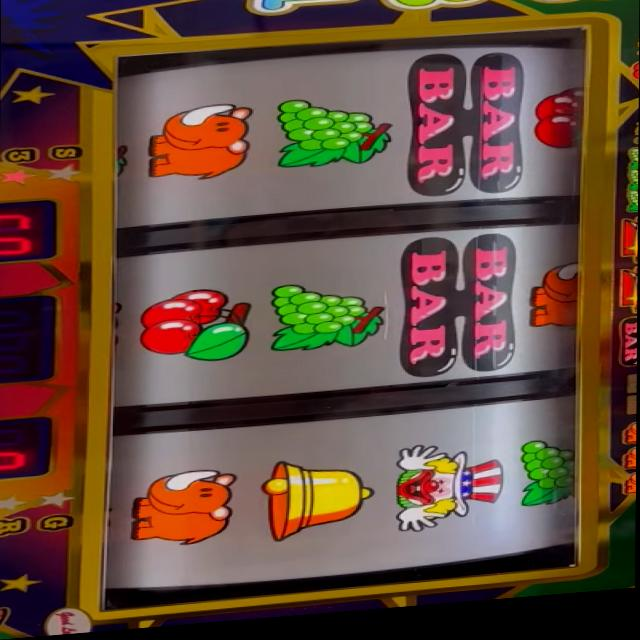bar: (406, 55, 526, 207), (399, 239, 519, 387), (618, 327, 638, 379)
bell: (258, 458, 378, 549)
cherry: (139, 287, 255, 371), (533, 94, 587, 161), (629, 71, 639, 92)
clown: (395, 447, 508, 541)
display: (98, 27, 598, 615)
elephant: (127, 470, 240, 553), (144, 105, 256, 188), (526, 270, 583, 345), (619, 457, 637, 481), (622, 482, 637, 506), (622, 432, 637, 455)
grape: (269, 97, 395, 177), (269, 283, 388, 359), (514, 446, 581, 518), (622, 200, 639, 224), (624, 155, 639, 178), (625, 179, 639, 202)
z: (616, 226, 638, 275), (616, 275, 638, 323)
